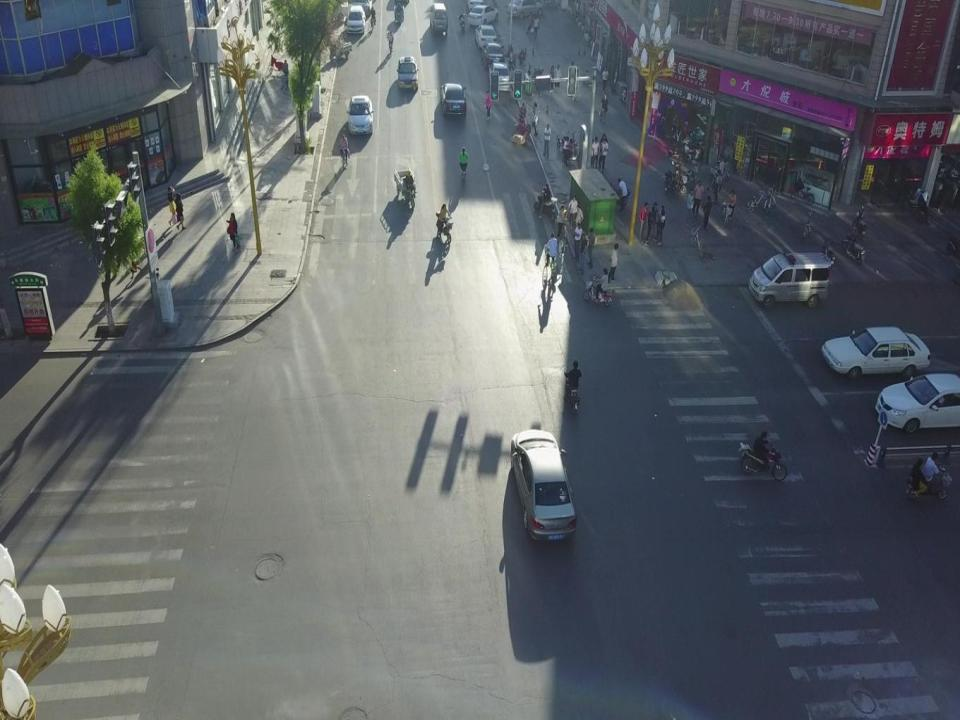car: (510, 429, 578, 544), (821, 327, 930, 382), (875, 373, 959, 433), (346, 95, 374, 136), (440, 82, 466, 118), (396, 56, 419, 90), (481, 42, 505, 70), (488, 62, 510, 92), (506, 0, 542, 18), (468, 5, 498, 26), (474, 24, 497, 50), (347, 5, 365, 34)
van: (748, 248, 830, 308), (429, 3, 448, 35)
